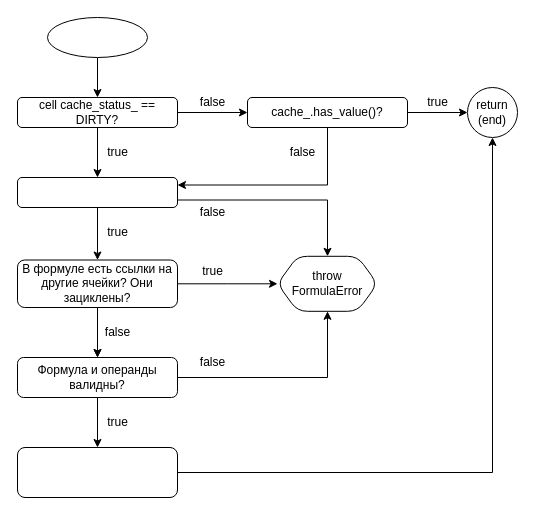
Image size: 535x515. Some labels were removed from this diagram. The shapes that lost their labels are listed below. From the top down, each one's centre as x and y in pixels, then its label:
At pixel 97 37: "Start".
At pixel 97 192: "cell type_ == FORMULA?".
At pixel 97 472: "Сделать вычисления, обновить КЭШ и зависимости".
